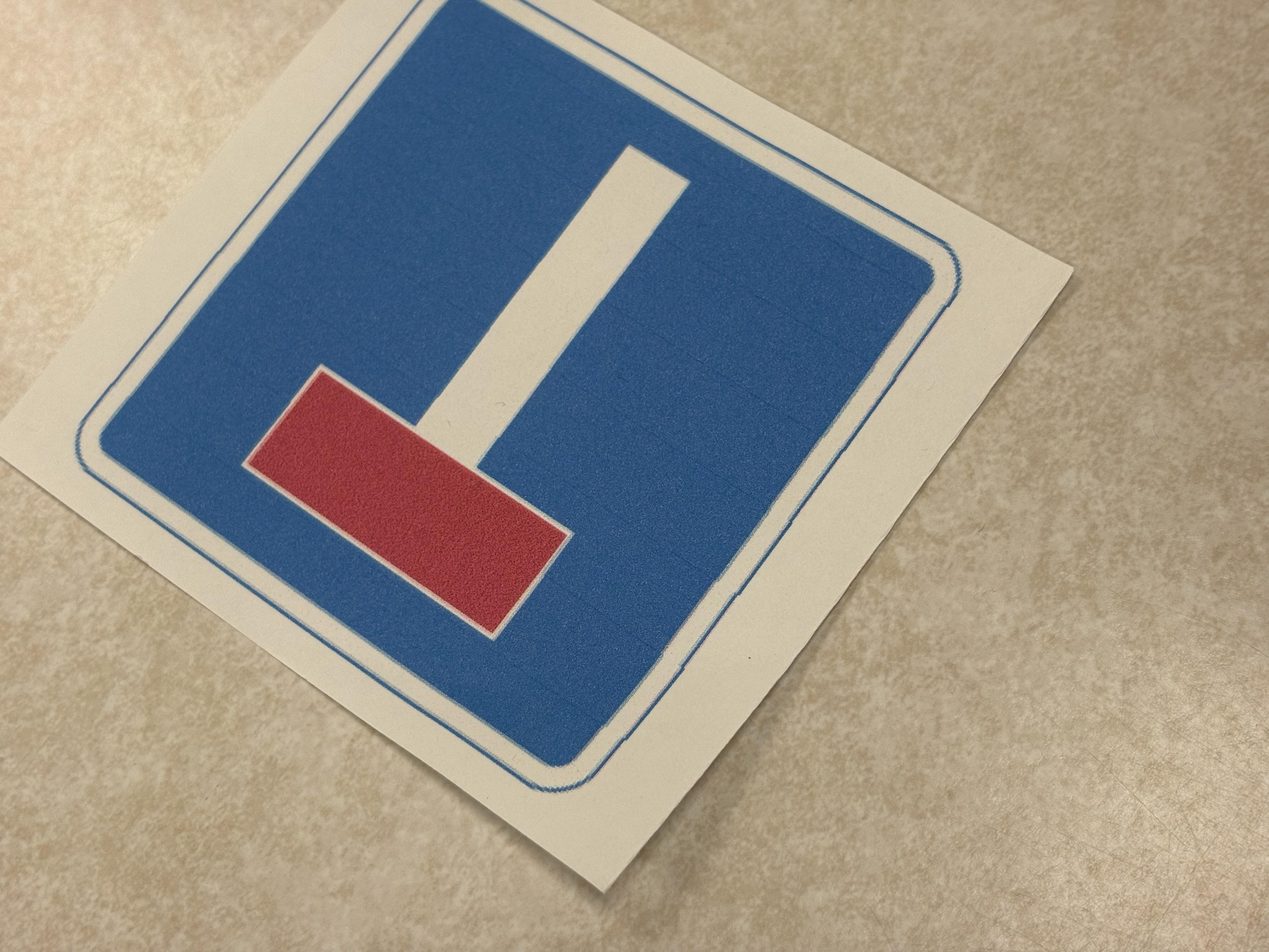Dead End: (0, 0, 1077, 899)
